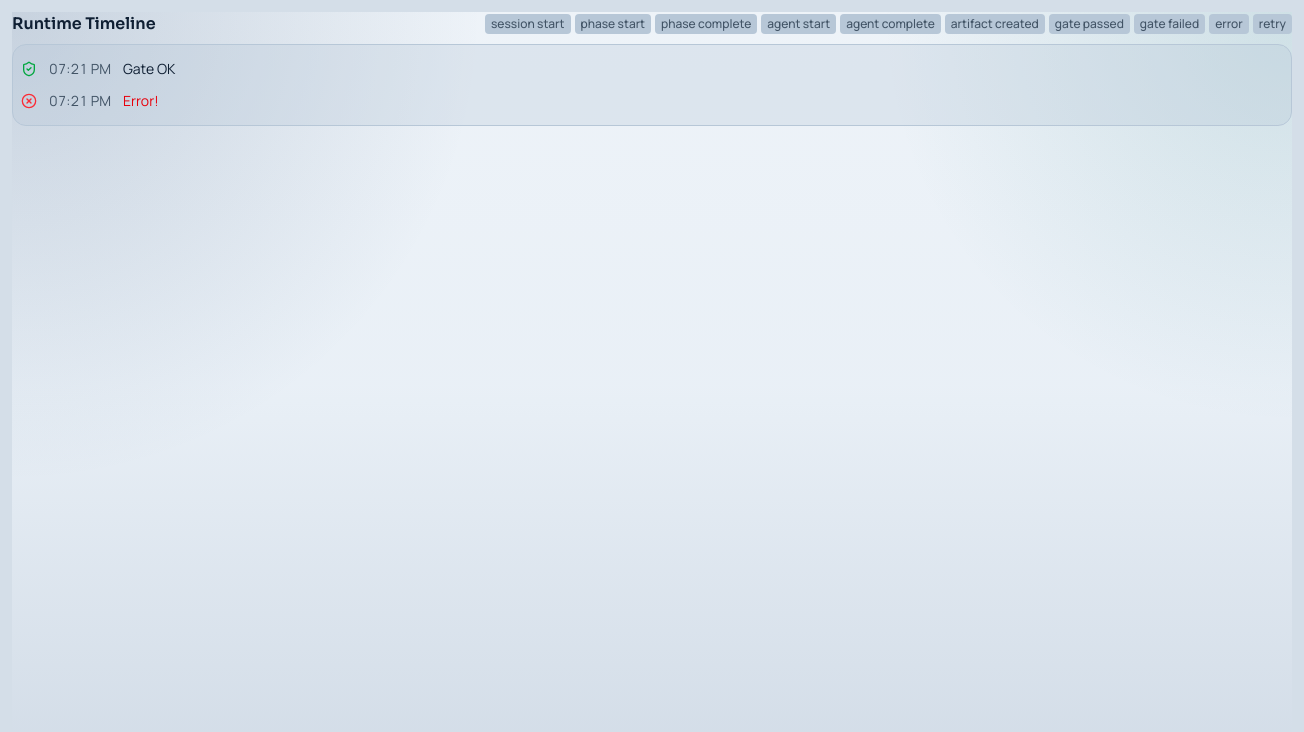
Test: RuntimeLog › toggles event type filter
Expected: the text "Gate OK" is shown, [123,59,175,79]
Expected: the text "Error!" is shown, [123,91,159,111]
Note: Click filter to show only errors
Click the button "error".
click(1229, 24)  # box [1209,14,1249,34]
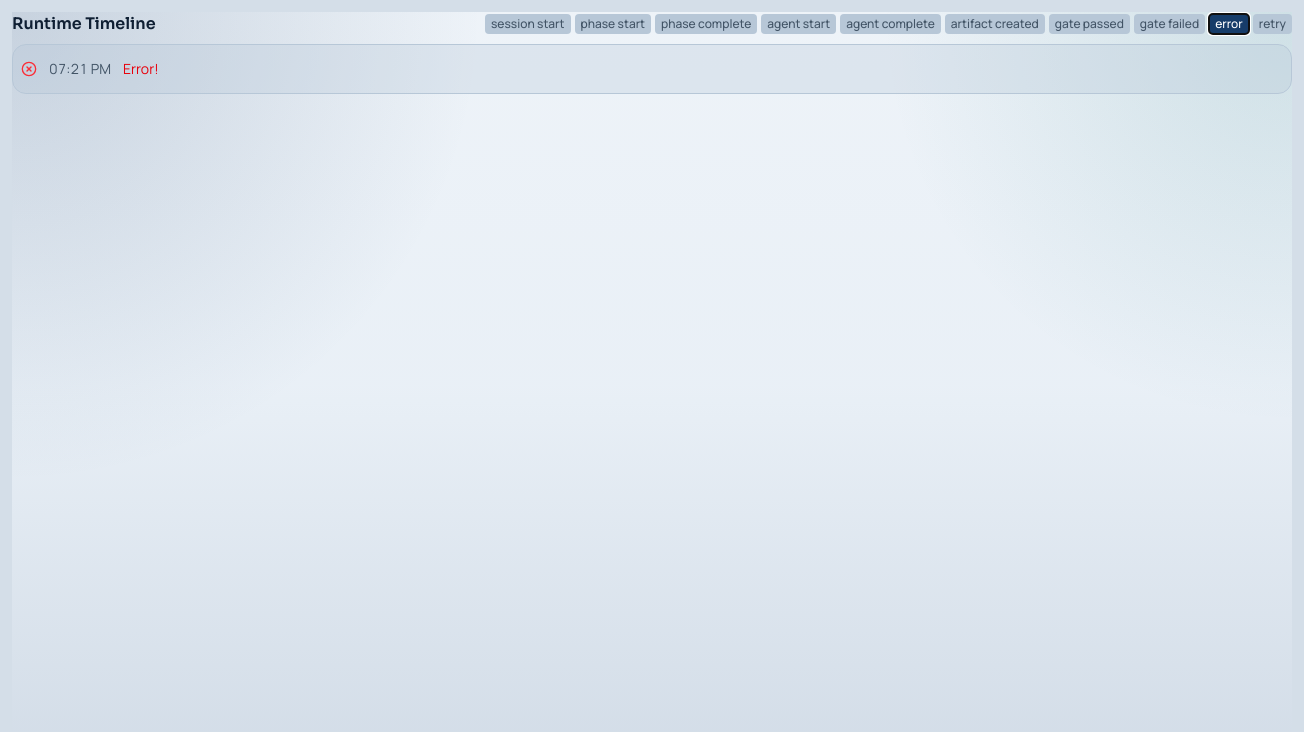
Expected: the text "Error!" is shown, [123,59,159,79]
Result: the text "Gate OK" is gone
